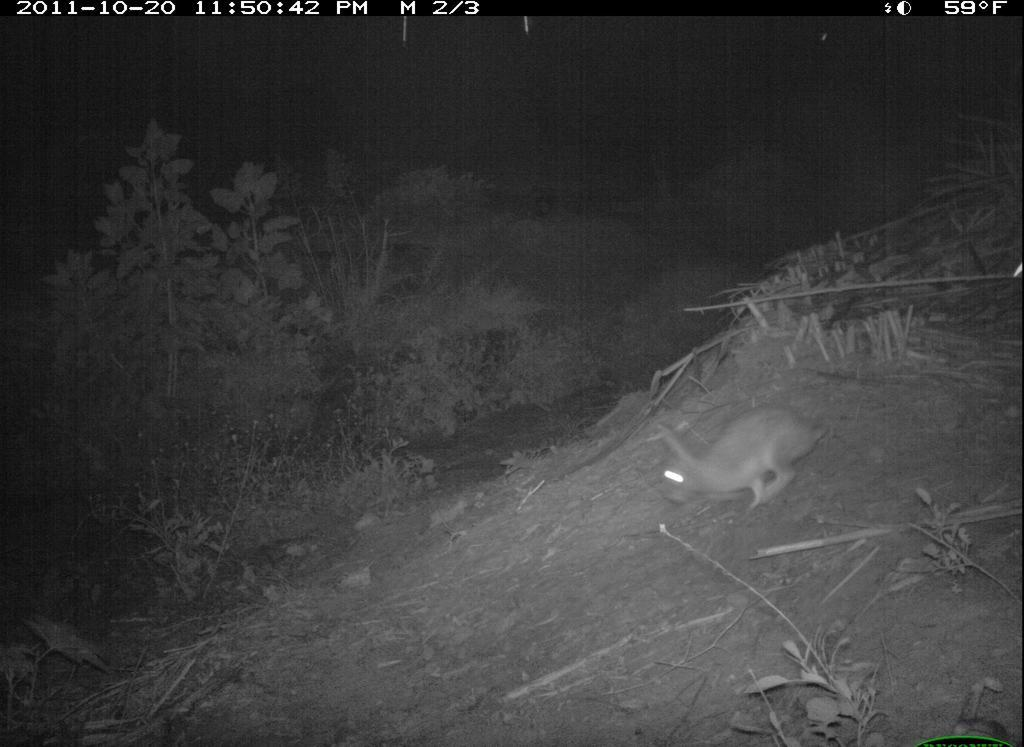rabbit: (651, 402, 836, 518)
